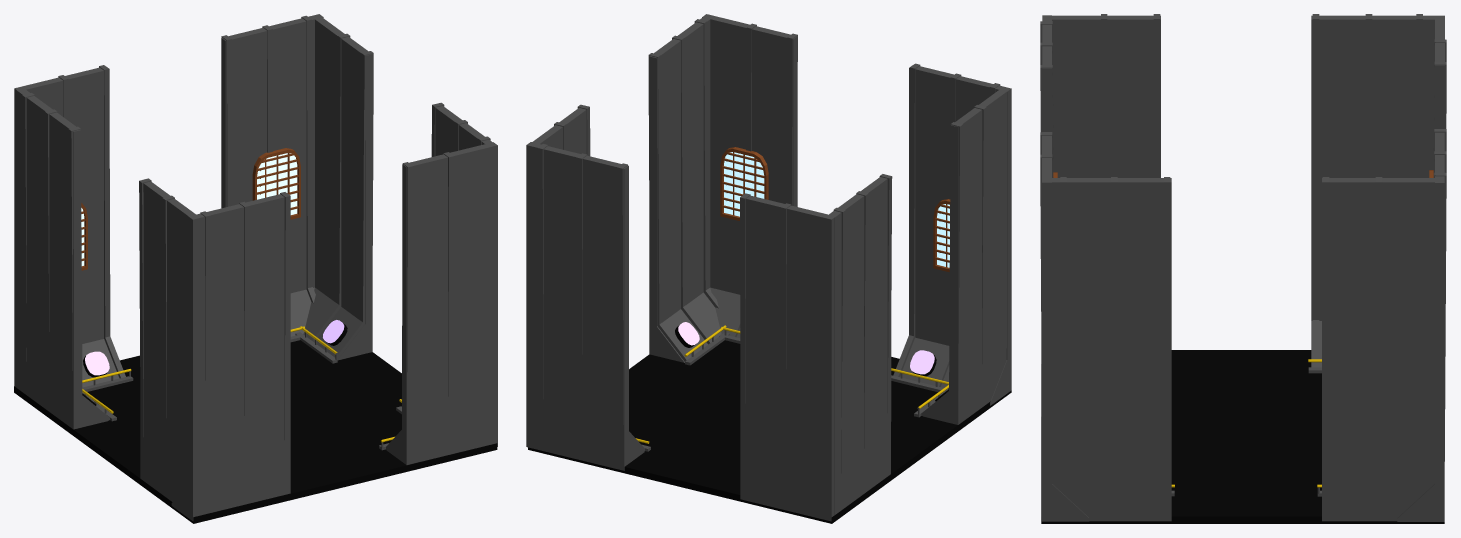
File: Room4 (2).fbx
3 views of the same model, side by side, from view 1: azimuth 30°, elevation 25°; view 2: azimuth 150°, elevation 25°; view 3: azimuth 270°, elevation 25° (orthographic). The views are drawn at different scales.
Visible parts, largest first — view 1: WalktroughWall1.006, WalktroughWall2.008, WalktroughWall1.005, WalktroughWall2.007, Room4; view 2: WalktroughWall1.005, WalktroughWall1.006, WalktroughWall2.008, WalktroughWall2.007, Room4; view 3: WalktroughWall2.007, WalktroughWall2.008, Room4, WalktroughWall1.006, WalktroughWall1.005.
Part boxes in pixels (bbox=[...]): WalktroughWall1.006: bbox=[171, 142, 497, 520]; WalktroughWall2.008: bbox=[17, 88, 195, 501]; WalktroughWall1.005: bbox=[14, 14, 323, 391]; WalktroughWall2.007: bbox=[295, 17, 494, 414]; Room4: bbox=[14, 340, 497, 523]; WalktroughWall1.005: bbox=[526, 142, 834, 521]; WalktroughWall1.006: bbox=[702, 14, 1011, 405]; WalktroughWall2.008: bbox=[827, 90, 1006, 515]; WalktroughWall2.007: bbox=[532, 15, 729, 365]; Room4: bbox=[528, 340, 1011, 523]; WalktroughWall2.007: bbox=[1044, 177, 1434, 521]; WalktroughWall2.008: bbox=[1052, 14, 1438, 373]; Room4: bbox=[1041, 350, 1444, 523]; WalktroughWall1.006: bbox=[1040, 15, 1089, 521]; WalktroughWall1.005: bbox=[1397, 15, 1446, 521].
Size of the model in its own units: 11940 by 11367 by 12190.
